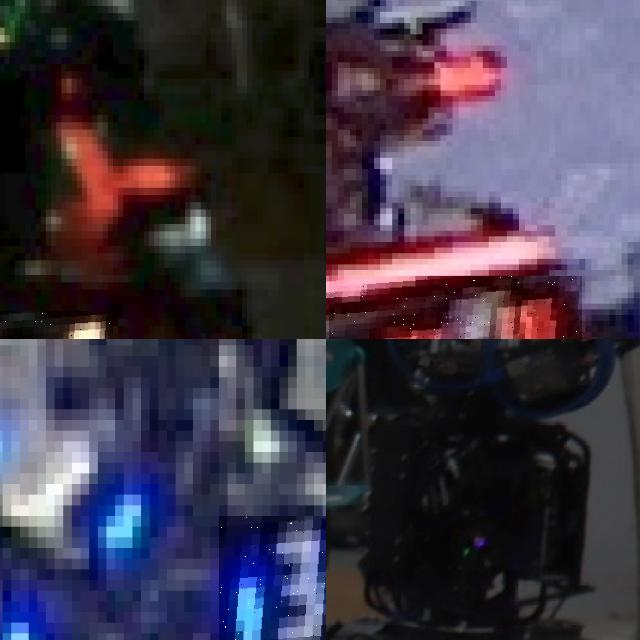B3: (218, 516, 326, 640)
R4: (328, 275, 582, 339)
